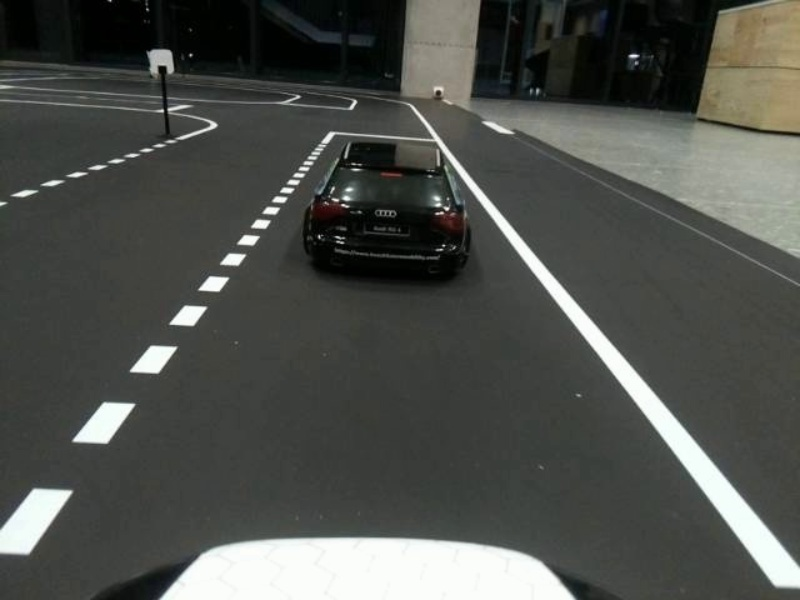car: (290, 133, 482, 294)
